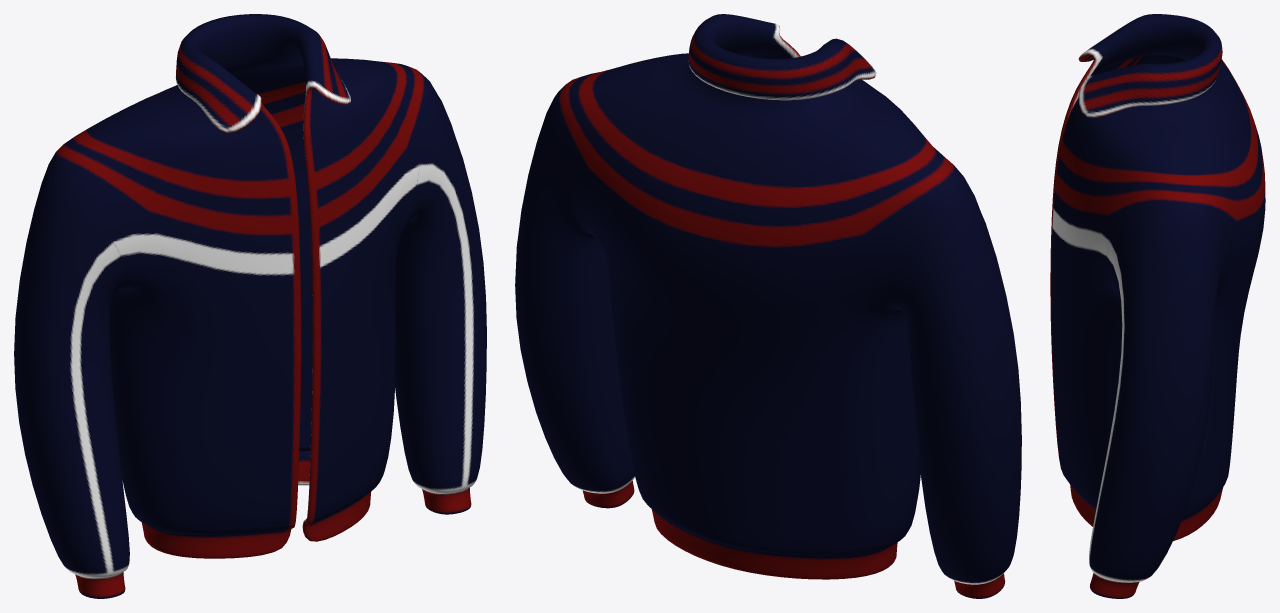
The model's file is Kurtka.fbx.
3 views of the same model, side by side, from view 1: azimuth 30°, elevation 25°; view 2: azimuth 150°, elevation 25°; view 3: azimuth 270°, elevation 25° (orthographic). The views are drawn at different scales.
Parts seen in each view (by area): view 1: Plane.003; view 2: Plane.003; view 3: Plane.003.
Part boxes in pixels (x1=…): Plane.003: x1=14, y1=14, x2=486, y2=598; Plane.003: x1=515, y1=14, x2=1021, y2=598; Plane.003: x1=1050, y1=14, x2=1265, y2=598.
Bounding box in the file's own units: 361 × 375 × 155.
1 material, 1 textured.
